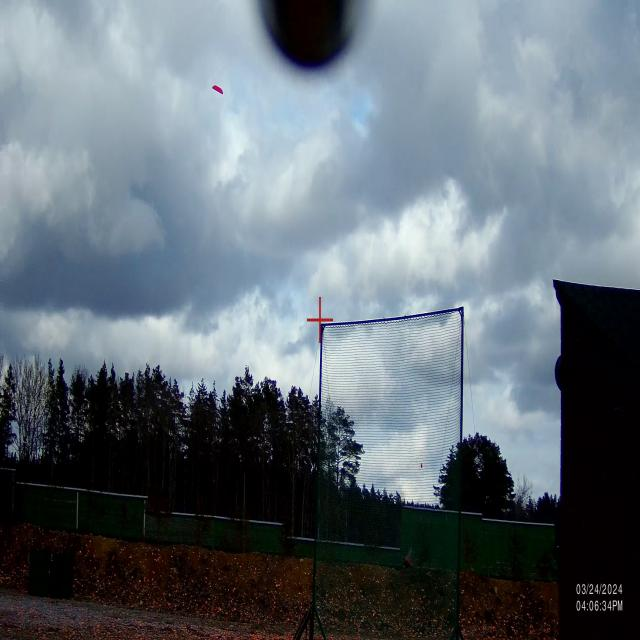entire: (207, 77, 235, 105)
